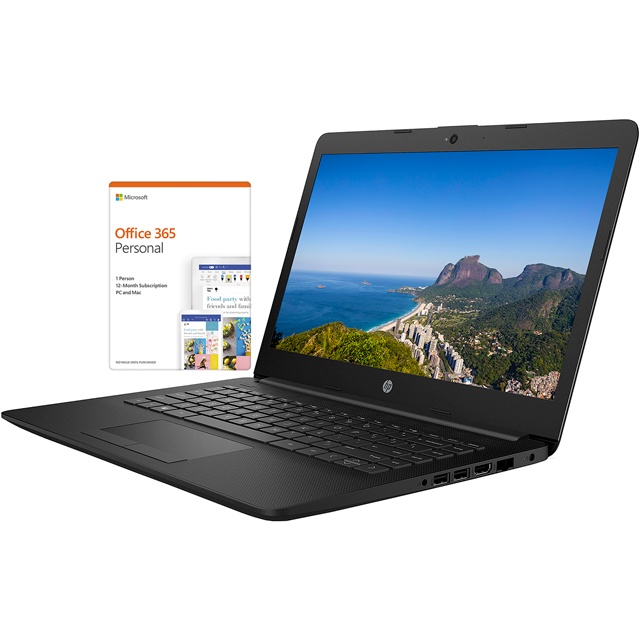Laptop: (1, 109, 640, 532)
